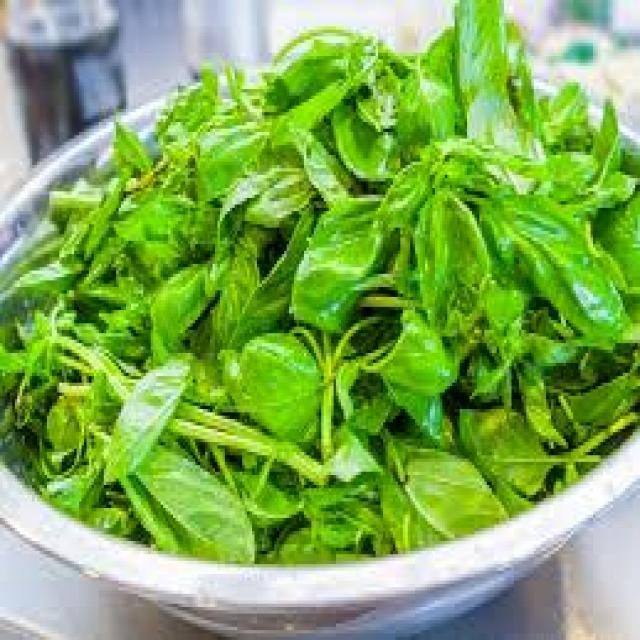organic waste: (0, 0, 638, 561), (7, 182, 304, 416), (163, 303, 457, 485), (217, 175, 440, 379), (119, 76, 289, 270), (42, 182, 242, 346), (257, 33, 462, 188), (492, 102, 638, 297), (480, 175, 638, 340), (57, 297, 212, 455), (0, 314, 114, 524), (104, 419, 259, 554), (400, 162, 502, 340), (240, 446, 395, 558), (376, 426, 502, 544), (292, 188, 396, 320), (454, 406, 576, 485), (546, 340, 638, 439), (452, 0, 512, 119), (494, 472, 531, 508)
